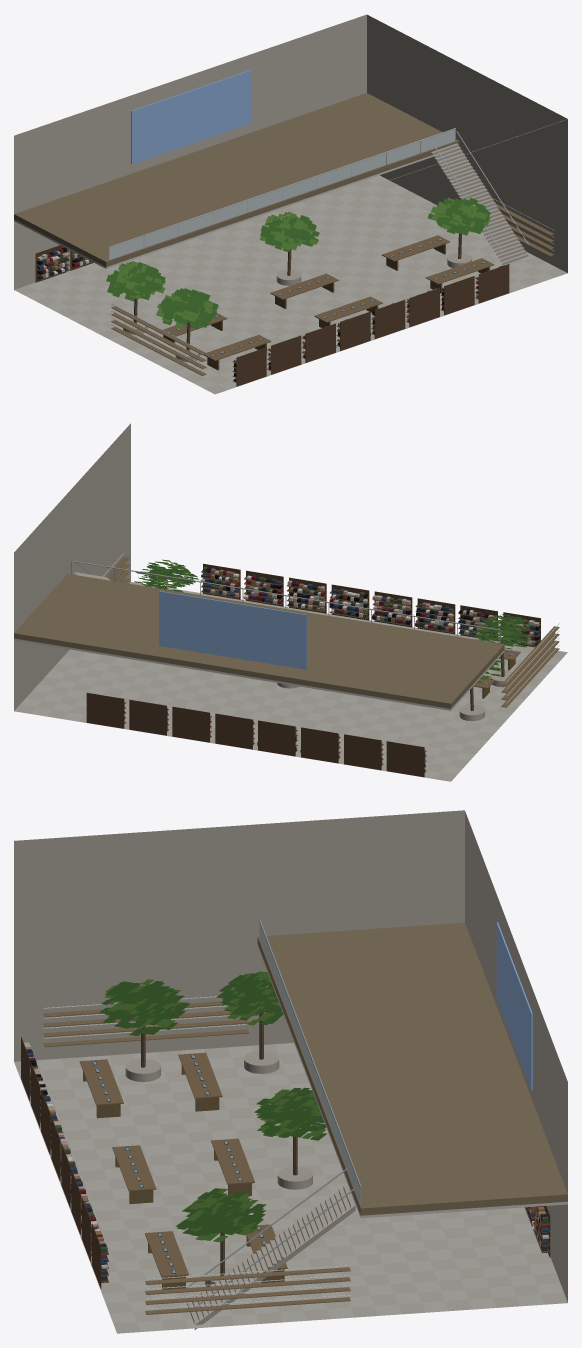
The model's file is apple_int.glb.
3 renders of one model, top to bottom at view 1: azimuth 30°, elevation 25°; view 2: azimuth 150°, elevation 25°; view 3: azimuth 270°, elevation 25°, orthographic. The views are drawn at different scales.
Visible parts, largest first — view 1: I_x_limestone, I_x_veneer, I_d_x_veneer, I_leaf, I_screen, I_glassI, I_d_paint, I_metal, I_x_plaster, I_lampI; view 2: I_x_limestone, I_x_veneer, I_d_x_veneer, I_screen, I_d_paint, I_leaf, I_x_plaster, I_metal, I_lampI; view 3: I_x_limestone, I_x_veneer, I_leaf, I_d_x_veneer, I_screen, I_d_paint, I_metal, I_lampI, I_glassI, I_x_plaster, I_bark.
Part boxes in pixels (left/top/right/bottom): I_x_limestone: left=14, top=14, right=567, bottom=394; I_x_veneer: left=14, top=93, right=553, bottom=375; I_d_x_veneer: left=35, top=245, right=509, bottom=386; I_leaf: left=106, top=197, right=490, bottom=329; I_screen: left=131, top=70, right=485, bottom=356; I_glassI: left=109, top=129, right=455, bottom=259; I_d_paint: left=37, top=247, right=504, bottom=381; I_metal: left=109, top=128, right=528, bottom=356; I_x_plaster: left=14, top=146, right=459, bottom=268; I_lampI: left=111, top=198, right=554, bottom=372; I_x_limestone: left=14, top=423, right=567, bottom=781; I_x_veneer: left=14, top=557, right=559, bottom=708; I_d_x_veneer: left=86, top=563, right=540, bottom=777; I_screen: left=159, top=591, right=513, bottom=683; I_d_paint: left=86, top=566, right=539, bottom=770; I_leaf: left=134, top=559, right=532, bottom=683; I_x_plaster: left=14, top=638, right=504, bottom=710; I_metal: left=71, top=560, right=513, bottom=683; I_lampI: left=103, top=553, right=559, bottom=703; I_x_limestone: left=14, top=810, right=567, bottom=1333; I_x_veneer: left=43, top=922, right=567, bottom=1314; I_leaf: left=99, top=971, right=326, bottom=1242; I_d_x_veneer: left=21, top=1036, right=550, bottom=1288; I_screen: left=93, top=922, right=532, bottom=1273; I_d_paint: left=24, top=1042, right=548, bottom=1280; I_metal: left=92, top=919, right=361, bottom=1307; I_lampI: left=43, top=996, right=350, bottom=1309; I_glassI: left=259, top=923, right=360, bottom=1202; I_x_plaster: left=257, top=944, right=567, bottom=1218; I_bark: left=141, top=1009, right=297, bottom=1275.
Size of the model in its own units: 35.8 by 12.5 by 27.72.
